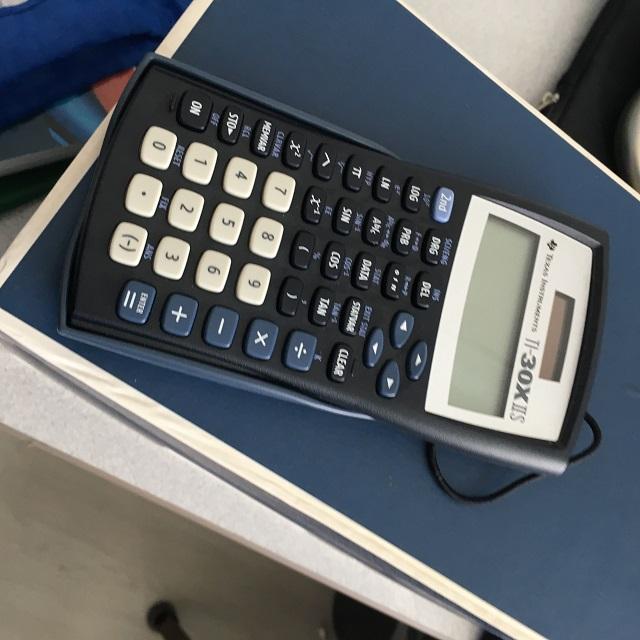calculator: (64, 56, 609, 485)
